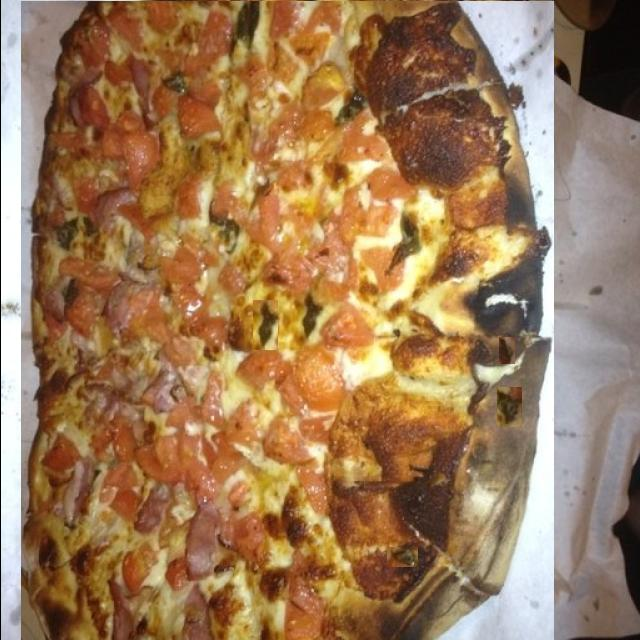basil: (150, 367, 192, 429), (204, 511, 247, 554), (314, 584, 346, 640), (337, 384, 367, 441), (252, 300, 277, 350), (496, 387, 521, 427), (386, 547, 417, 567), (498, 337, 514, 364)
pizza: (20, 1, 553, 640)
